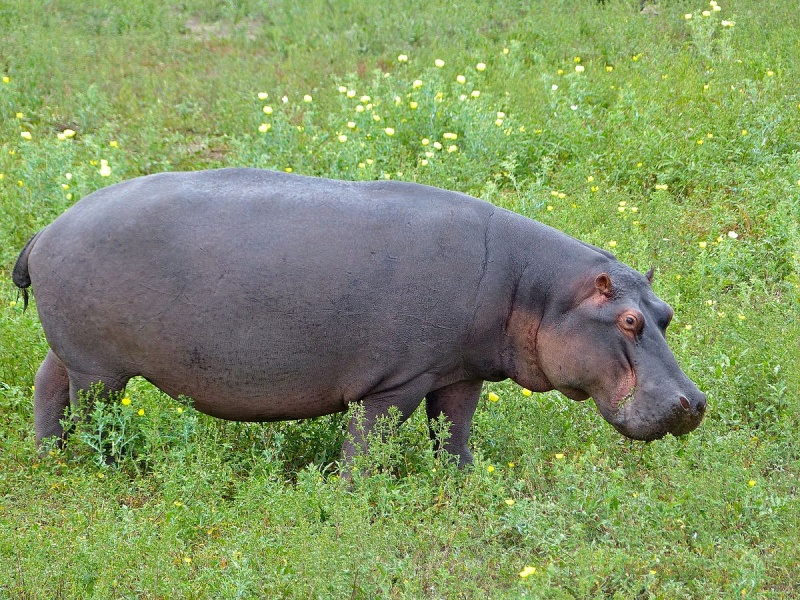hipopotamo: (10, 161, 714, 481)
